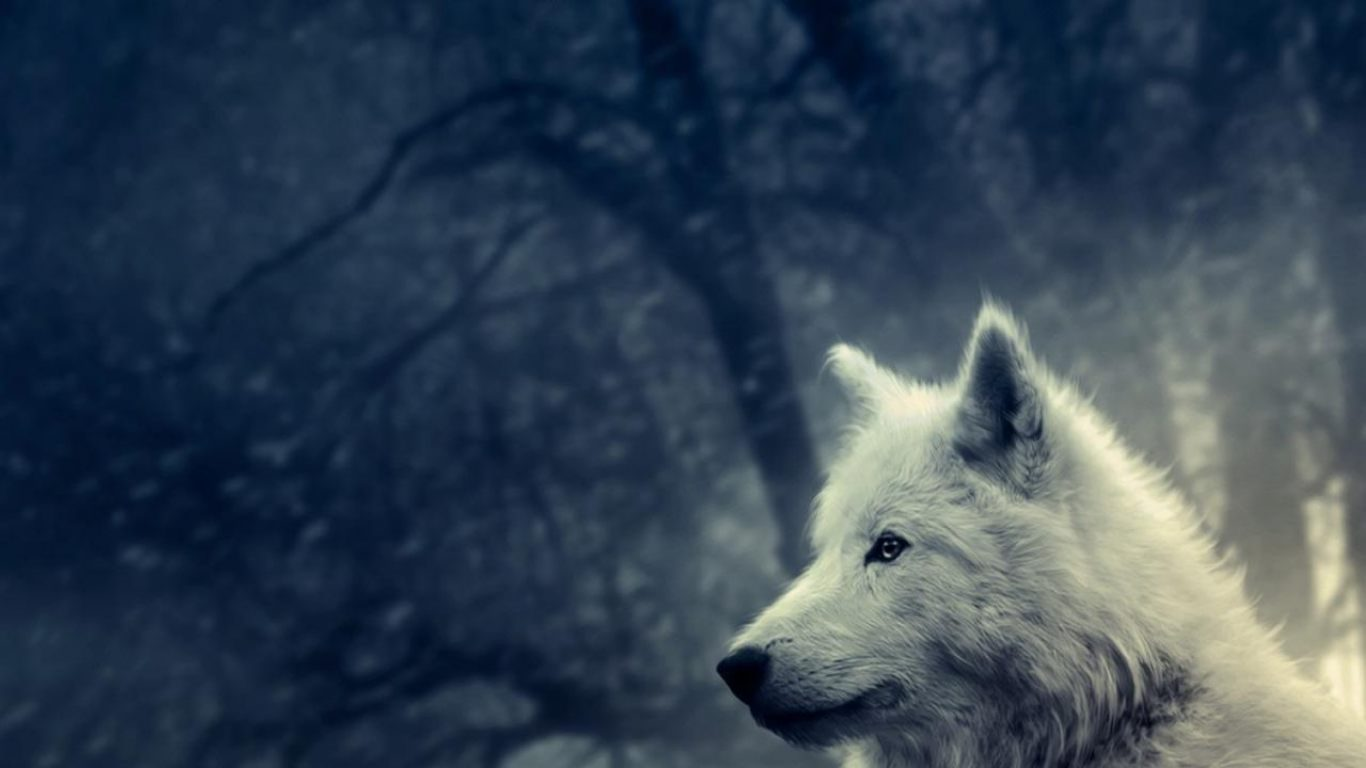Lobo: (552, 259, 1261, 754)
